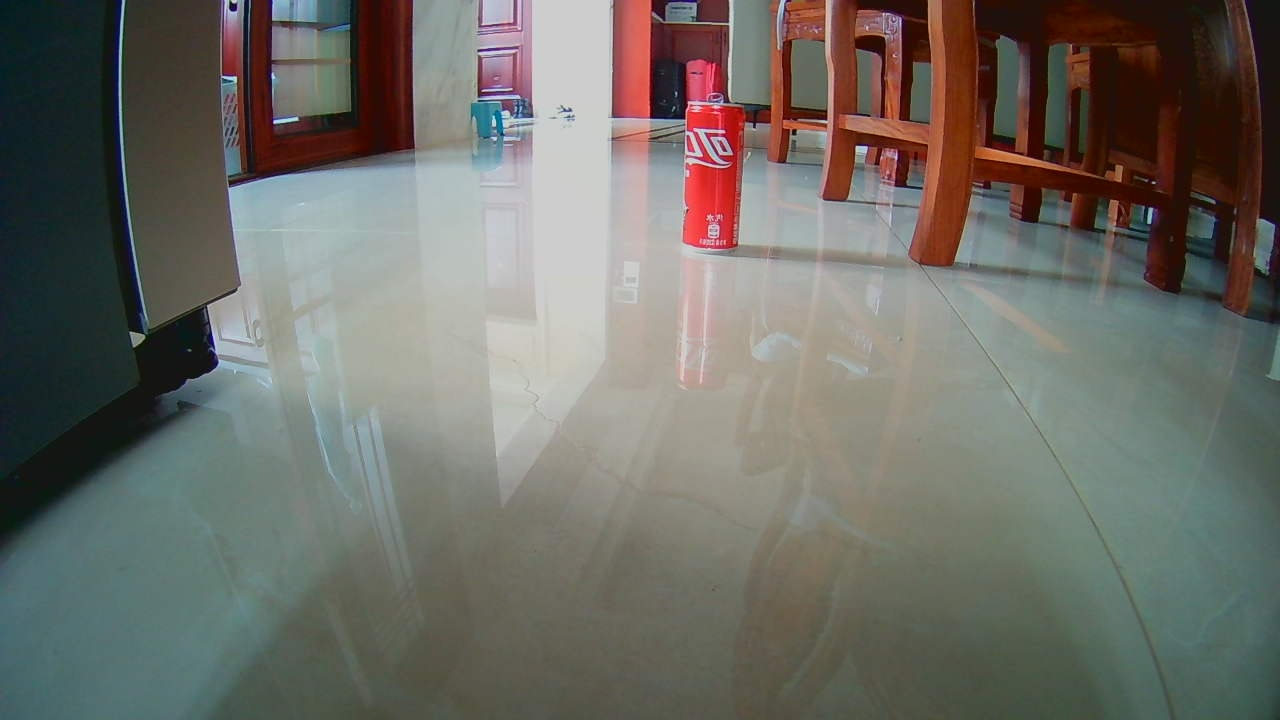cola: (680, 98, 744, 258)
